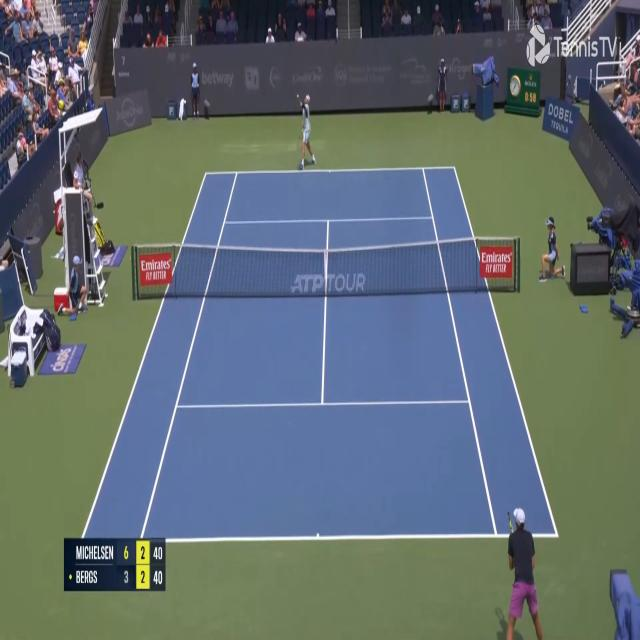tennis-player: (492, 504, 550, 639), (297, 94, 318, 172)
